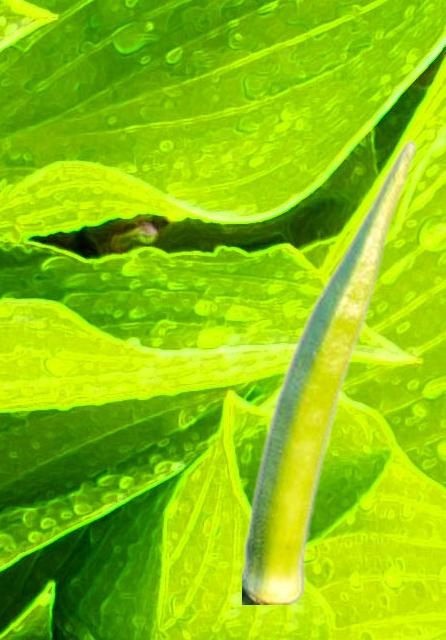okra: (242, 138, 415, 603)
